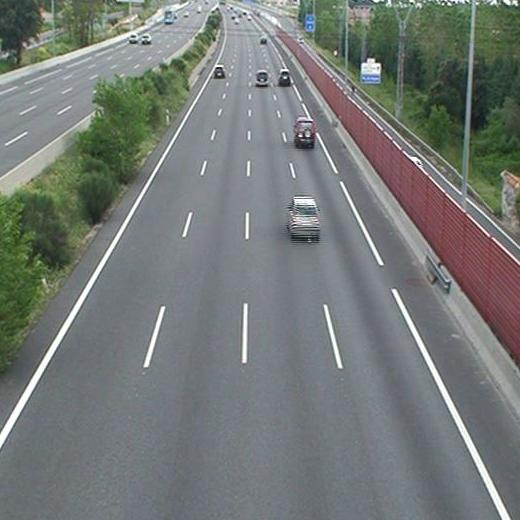car: (288, 198, 319, 237), (295, 119, 316, 144), (256, 71, 269, 85), (279, 70, 291, 85), (214, 66, 225, 77), (259, 35, 267, 45)
